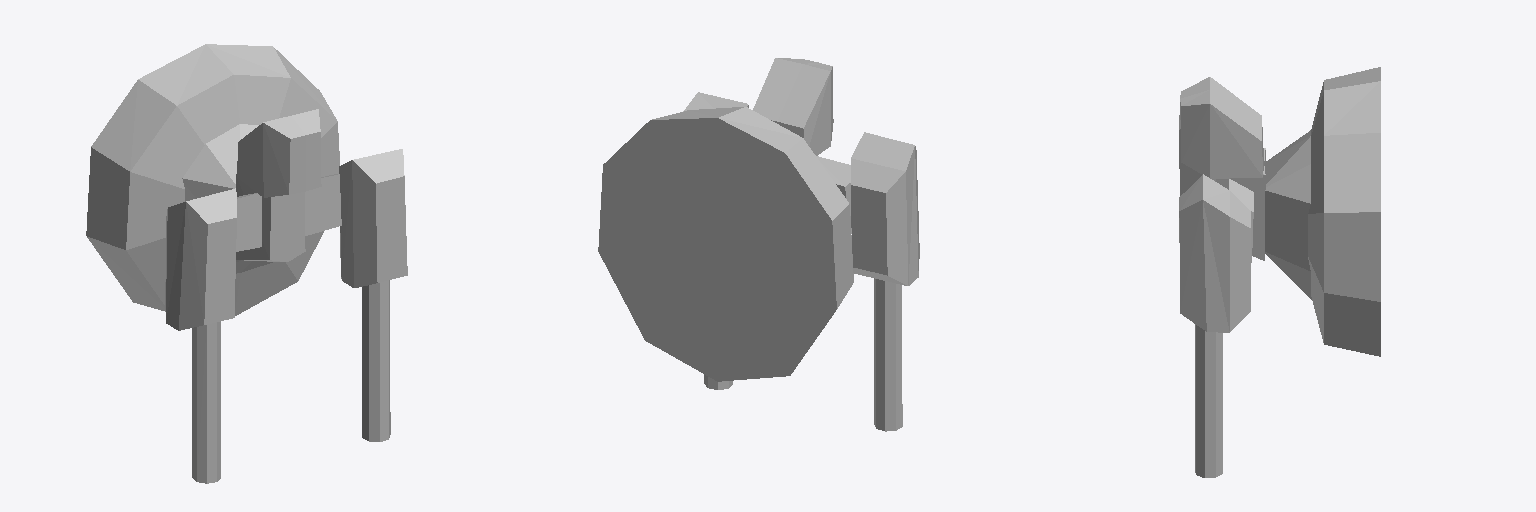
File: turret-11.obj
3 views of the same model, side by side, from view 1: azimuth 30°, elevation 25°; view 2: azimuth 150°, elevation 25°; view 3: azimuth 270°, elevation 25° (orthographic).
Parts seen in each view (by area): view 1: turret_11; view 2: turret_11; view 3: turret_11.
Boxes of the visible parts, x1=… form: turret_11: x1=86, y1=44, x2=407, y2=483; turret_11: x1=598, y1=58, x2=919, y2=431; turret_11: x1=1179, y1=67, x2=1380, y2=477.
Bounding box in the file's own units: 3.82 × 5.36 × 2.8.